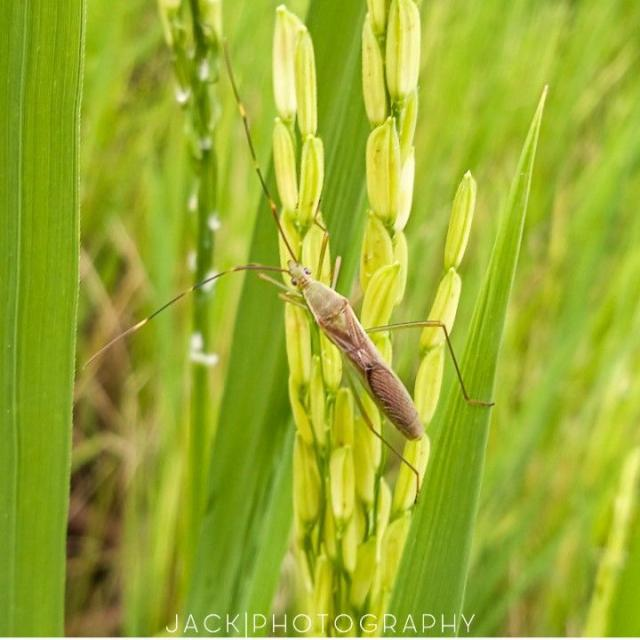walang sangit pada tanaman padi: (84, 250, 428, 440), (371, 318, 493, 408), (361, 409, 418, 478), (255, 166, 289, 249)
